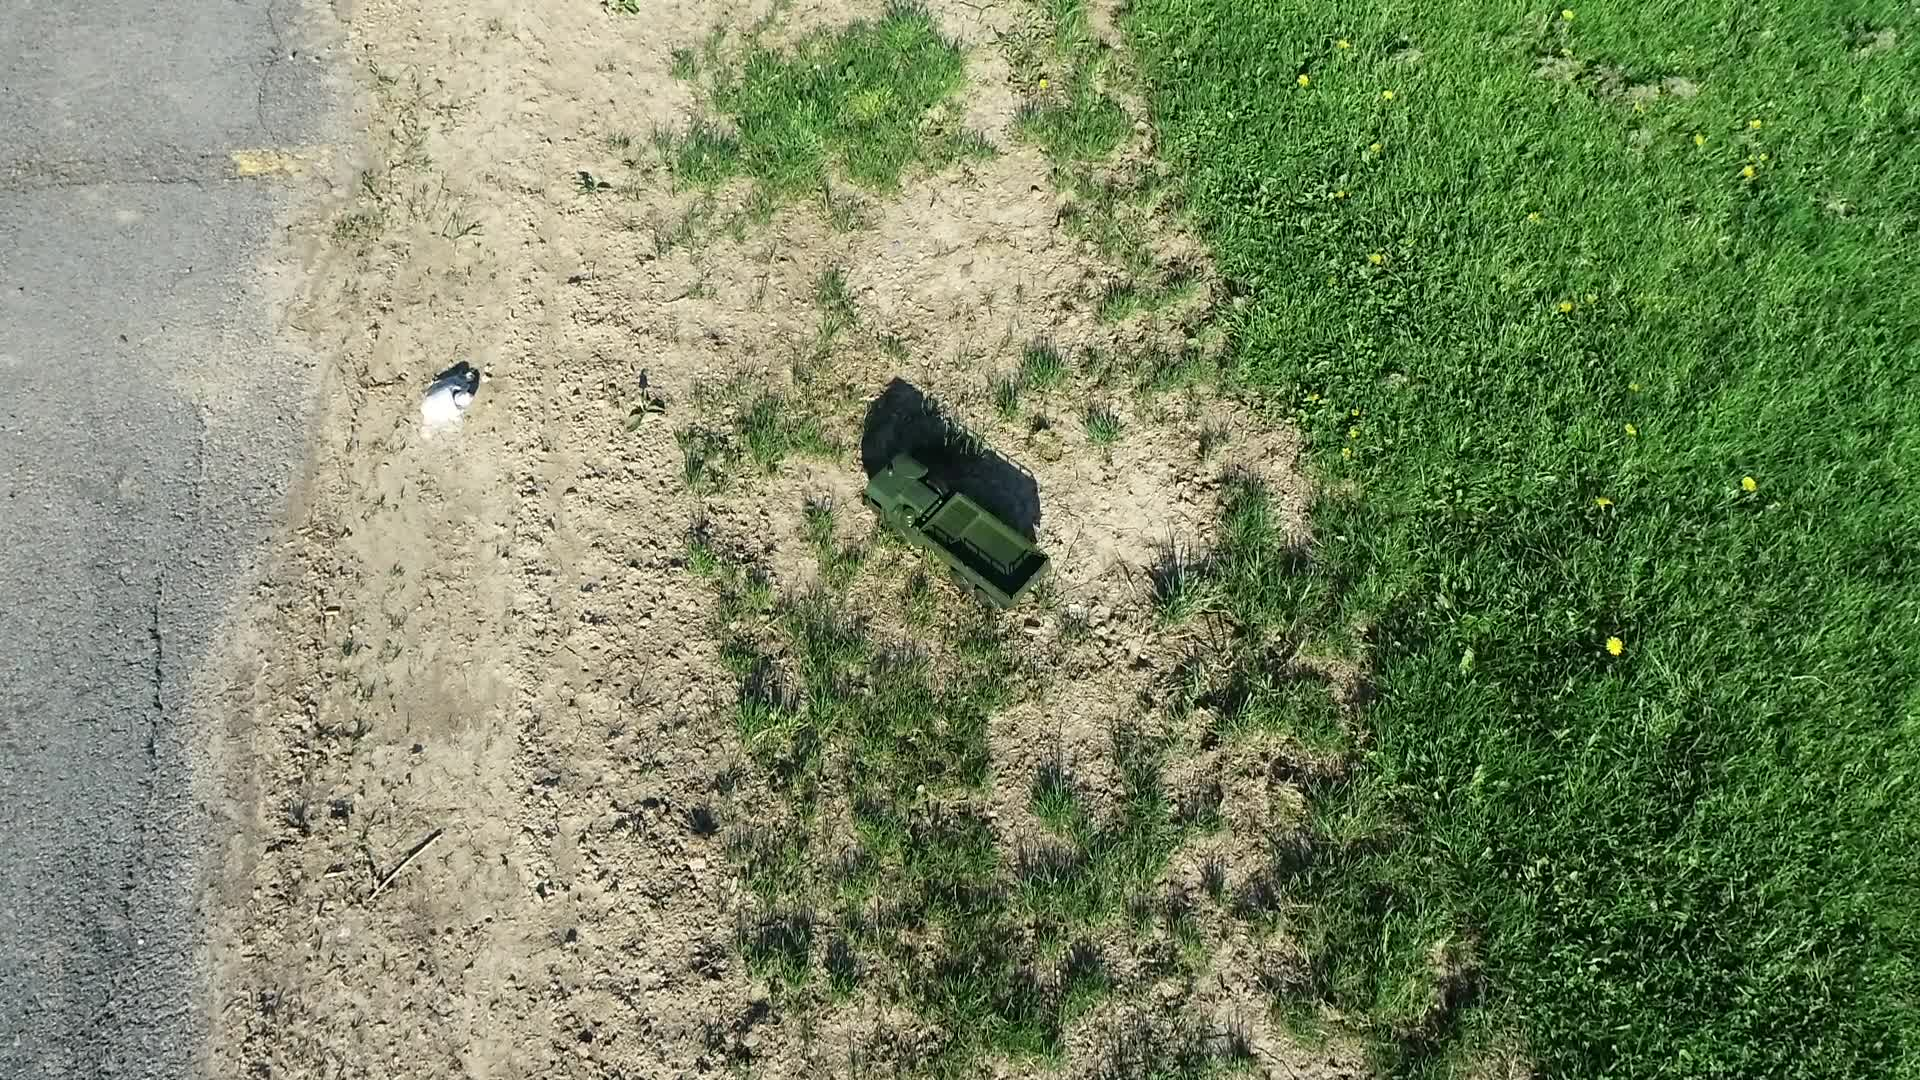transporter9: (848, 438, 1054, 622)
